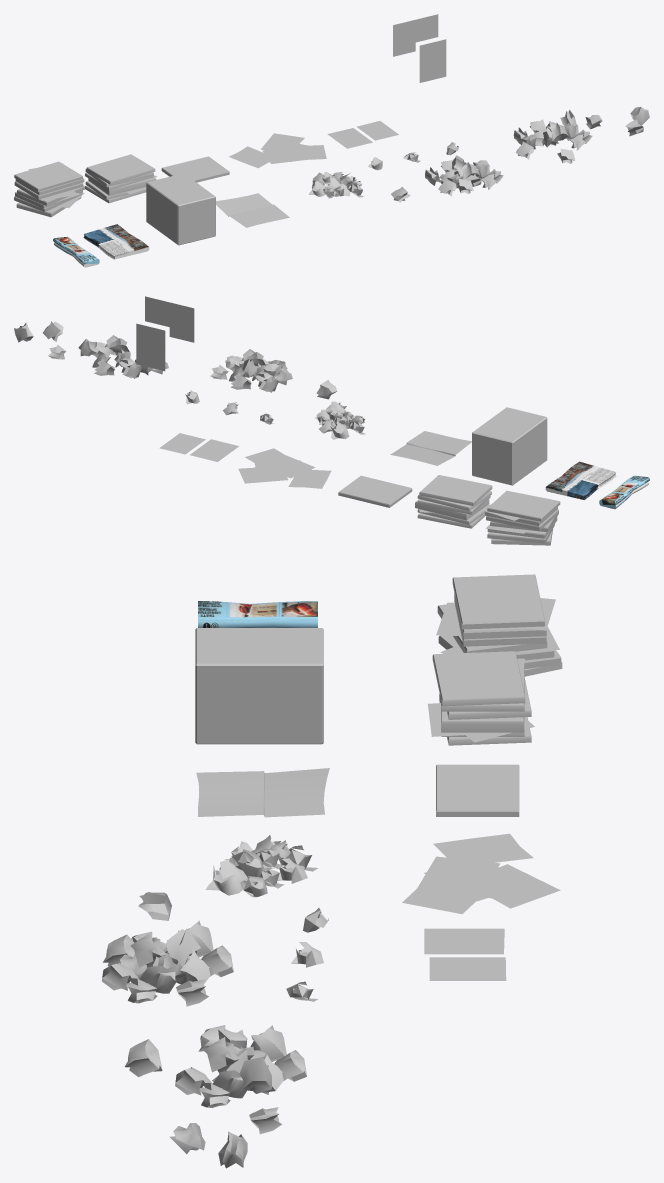
File: paper_clutter_master.FBX
3 renders of one model, top to bottom at view 1: azimuth 30°, elevation 25°; view 2: azimuth 150°, elevation 25°; view 3: azimuth 270°, elevation 25°, orthographic. The views are drawn at different scales.
Parts seen in each view (by area): view 1: debris_box_a_01, debris_paper_stack_a_01, paper_crumpled_c_01, debris_newspaper_b_01, debris_paper_h_01, paper_crumpled_b_01, debris_paper_e_01, newspaper_b_01, news_clip_b_01, paper_crumpled_d_01, news_clip_a_01, debris_newspaper_a_01 (+3 smaller); view 2: debris_box_a_01, debris_paper_stack_a_01, debris_newspaper_b_01, paper_crumpled_c_01, debris_paper_h_01, paper_crumpled_b_01, debris_paper_e_01, newspaper_b_01, news_clip_b_01, debris_newspaper_a_01, news_clip_a_01, paper_crumpled_d_01 (+3 smaller); view 3: debris_box_a_01, paper_crumpled_c_01, debris_paper_stack_a_01, debris_newspaper_b_01, debris_paper_h_01, paper_crumpled_b_01, debris_paper_e_01, debris_newspaper_a_01, paper_crumpled_d_01, newspaper_c_01, debris_paper_g_01, debris_paper_f_01.
Boxes of the visible parts, <box> form: debris_box_a_01: <box>146,173,215,245</box>; debris_paper_stack_a_01: <box>14,161,84,217</box>; paper_crumpled_c_01: <box>513,107,649,163</box>; debris_newspaper_b_01: <box>85,154,157,203</box>; debris_paper_h_01: <box>229,133,326,168</box>; paper_crumpled_b_01: <box>425,155,503,196</box>; debris_paper_e_01: <box>216,193,289,227</box>; newspaper_b_01: <box>83,224,149,259</box>; news_clip_b_01: <box>393,14,438,56</box>; paper_crumpled_d_01: <box>308,171,363,198</box>; news_clip_a_01: <box>419,39,446,82</box>; debris_newspaper_a_01: <box>161,156,229,182</box>; debris_box_a_01: <box>472,407,547,485</box>; debris_paper_stack_a_01: <box>482,490,560,545</box>; debris_newspaper_b_01: <box>415,475,492,528</box>; paper_crumpled_c_01: <box>14,321,168,378</box>; debris_paper_h_01: <box>238,448,331,488</box>; paper_crumpled_b_01: <box>210,349,292,392</box>; debris_paper_e_01: <box>390,431,471,465</box>; newspaper_b_01: <box>545,461,616,499</box>; news_clip_b_01: <box>145,296,194,342</box>; debris_newspaper_a_01: <box>338,475,412,507</box>; news_clip_a_01: <box>136,323,165,371</box>; paper_crumpled_d_01: <box>314,401,365,439</box>; debris_box_a_01: <box>195,628,323,744</box>; paper_crumpled_c_01: <box>124,1025,306,1168</box>; debris_paper_stack_a_01: <box>436,574,562,676</box>; debris_newspaper_b_01: <box>427,651,534,745</box>; debris_paper_h_01: <box>402,833,560,914</box>; paper_crumpled_b_01: <box>102,920,233,1006</box>; debris_paper_e_01: <box>196,768,329,817</box>; debris_newspaper_a_01: <box>436,764,519,816</box>; paper_crumpled_d_01: <box>205,835,318,897</box>; newspaper_c_01: <box>198,601,317,627</box>; debris_paper_g_01: <box>424,928,504,954</box>; debris_paper_f_01: <box>429,957,506,980</box>.
Size of the model in its own units: 4.43 by 0.8511 by 1.53.
